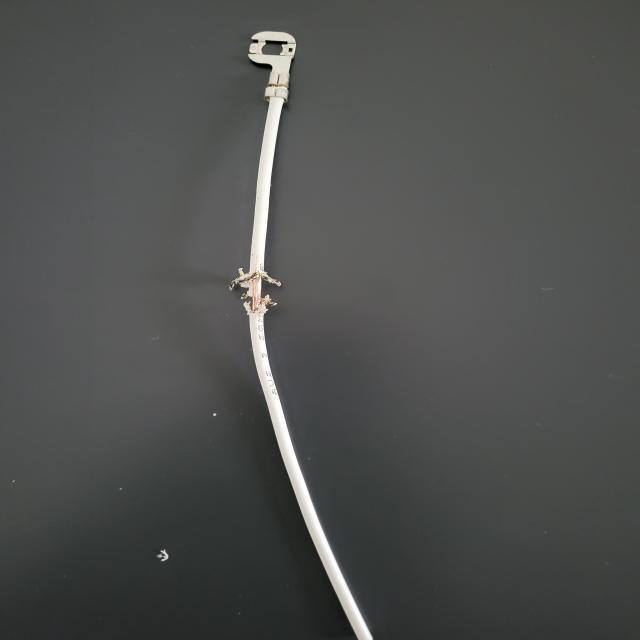defect: (164, 218, 429, 393)
